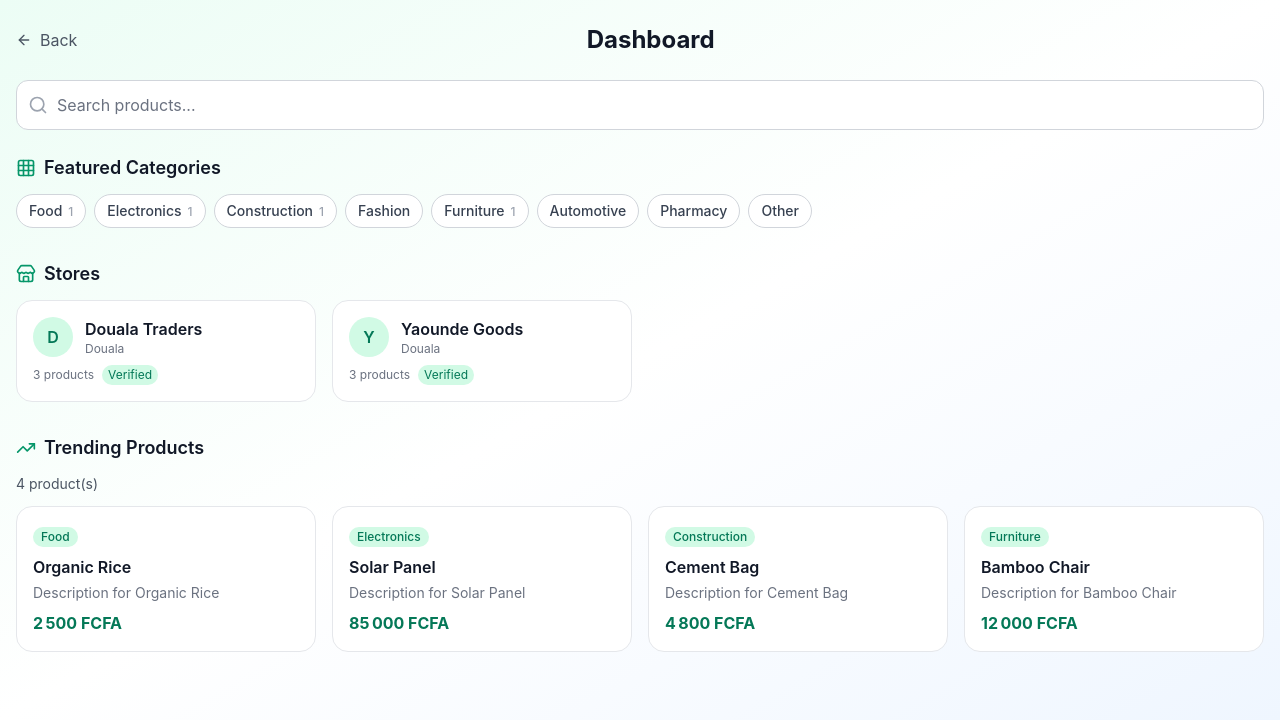
Test case: BuyerDashboard › filters products when a category chip is clicked
Expected: the heading "Organic Rice" is shown, [33,557,131,577]
Click the button with test id "category-Electronics" at (150, 211), box [94,194,206,228]
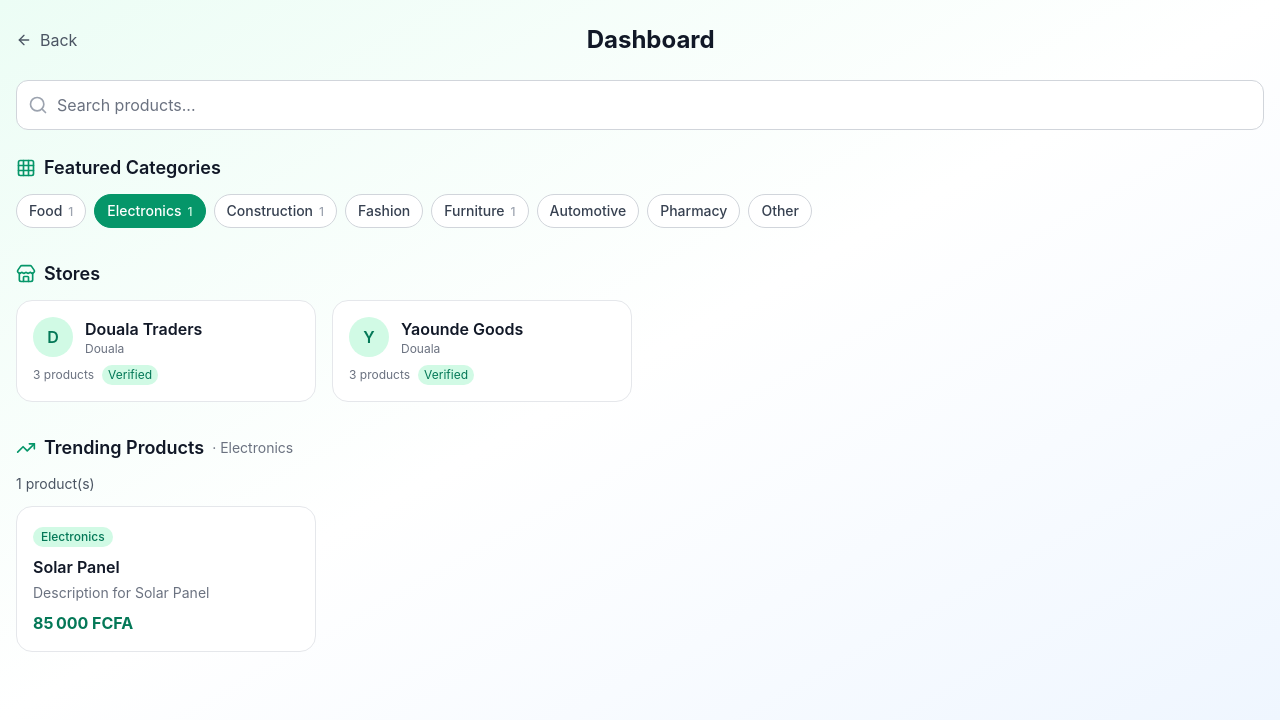
Expected: the heading "Solar Panel" is shown, [33,557,120,577]
Expected: the button "Organic Rice" is gone
Expected: the button "Cement Bag" is gone
